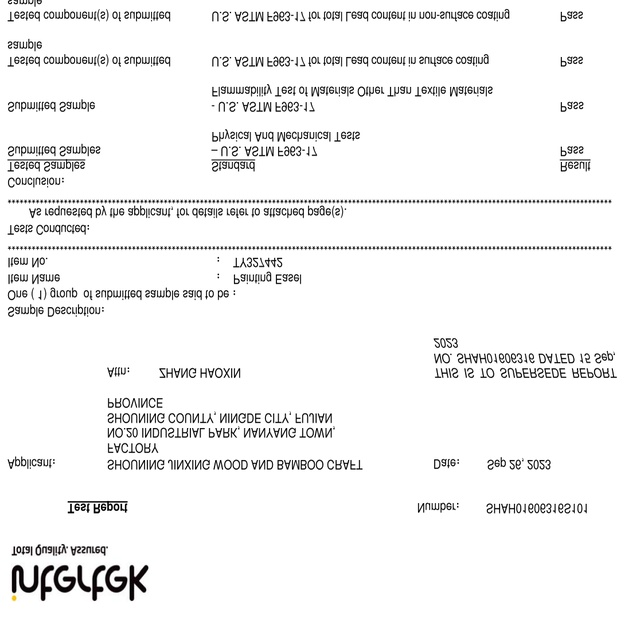intertek: (8, 561, 156, 604)
